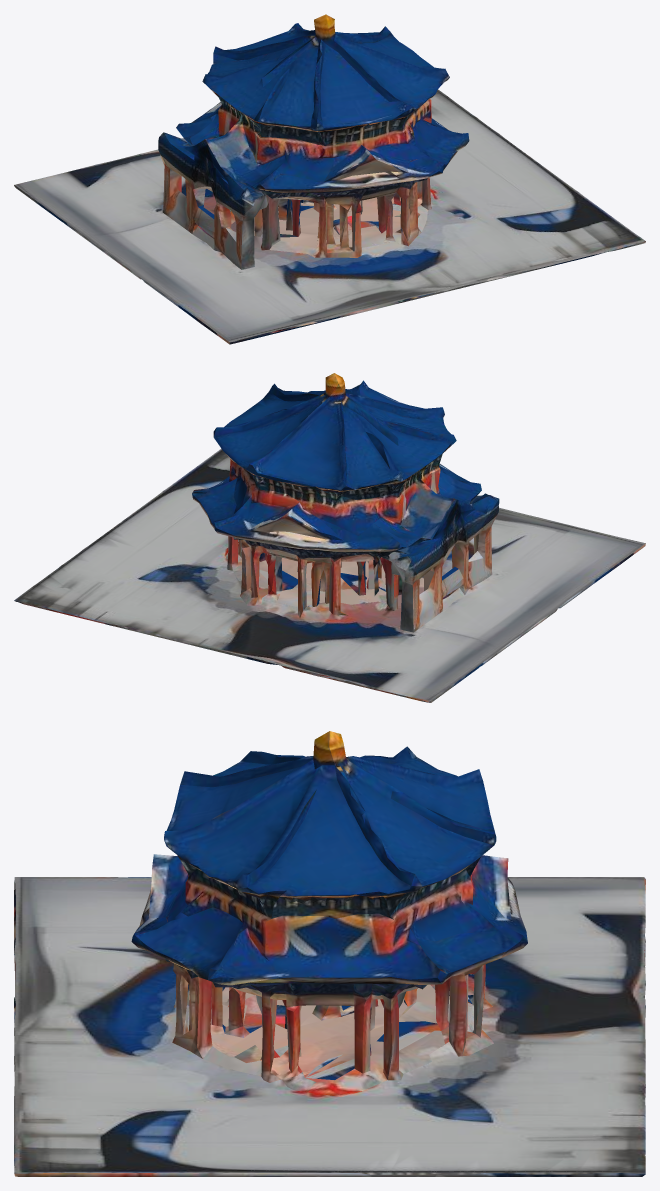
File: sun-yat-sen-memorial-guangzhou.glb
3 renders of one model, top to bottom at view 1: azimuth 30°, elevation 25°; view 2: azimuth 150°, elevation 25°; view 3: azimuth 270°, elevation 25°, orthographic. The views are drawn at different scales.
Parts seen in each view (by area): view 1: logan-textured.obj; view 2: logan-textured.obj; view 3: logan-textured.obj.
Boxes of the visible parts, box(x1,y1,x2,y2) form: logan-textured.obj: box(14, 14, 645, 344); logan-textured.obj: box(14, 373, 645, 702); logan-textured.obj: box(14, 731, 645, 1176).
Size of the model in its own units: 1 by 0.4649 by 0.8995.
1 material, 1 textured.
